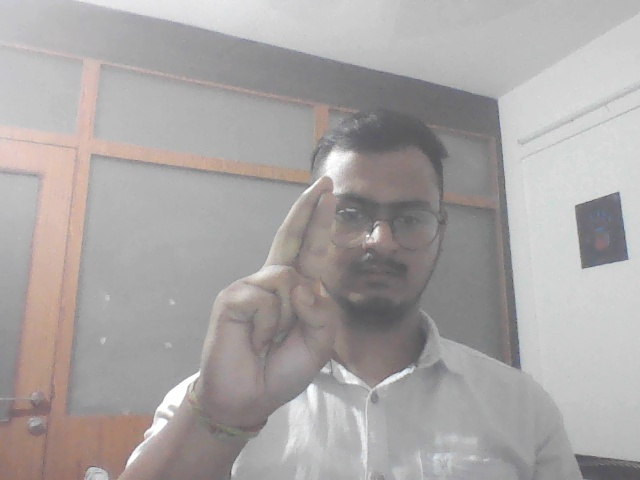GoodLuck: (190, 166, 354, 415)
